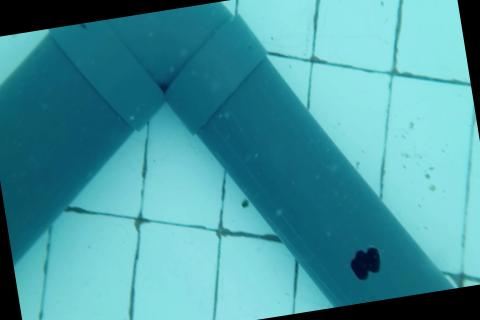kebocoran: (347, 244, 384, 283)
